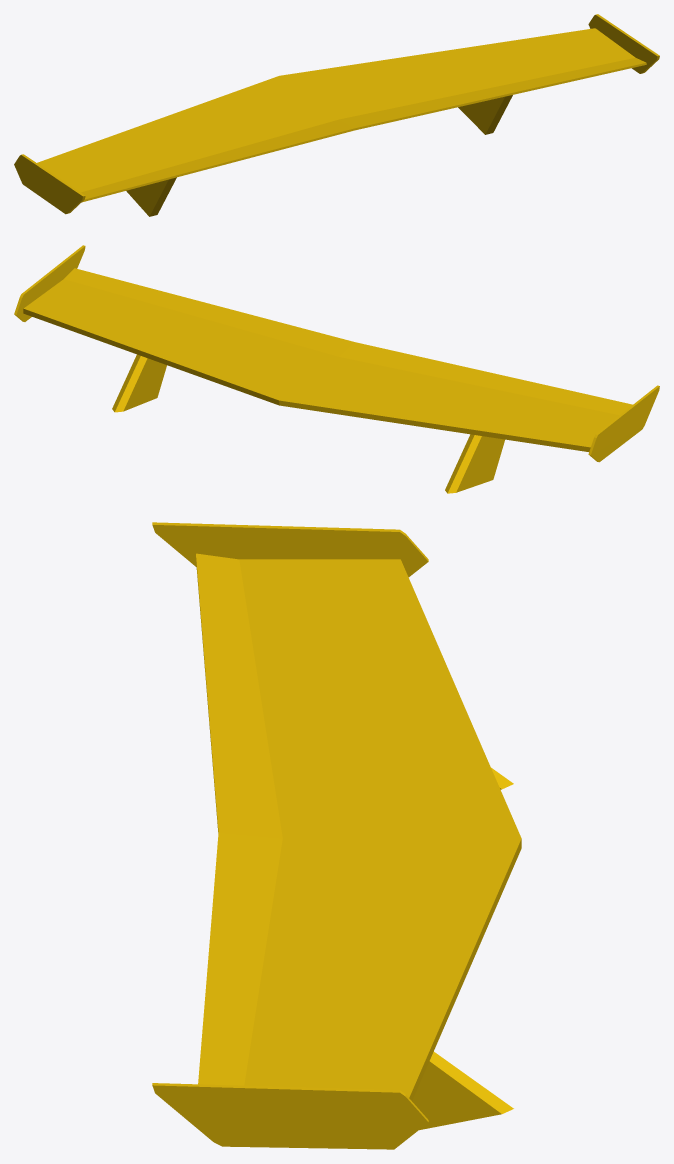
The model's file is lamborghini_spoiler_1.fbx.
The picture shows the model from 3 angles, top to bottom: view 1: azimuth 30°, elevation 25°; view 2: azimuth 150°, elevation 25°; view 3: azimuth 270°, elevation 25°; orthographic projection. The views are drawn at different scales.
Parts seen in each view (by area): view 1: Cube.001; view 2: Cube.001; view 3: Cube.001.
Part boxes in pixels (bbox=[...]): Cube.001: bbox=[14, 14, 659, 216]; Cube.001: bbox=[14, 245, 659, 493]; Cube.001: bbox=[152, 522, 521, 1149].
Size of the model in its own units: 316 by 44.75 by 87.5.
